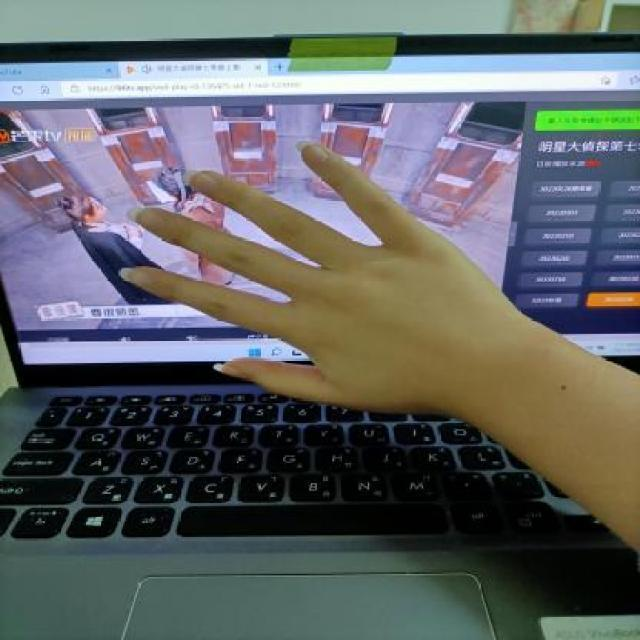Hand: (124, 136, 519, 416)
